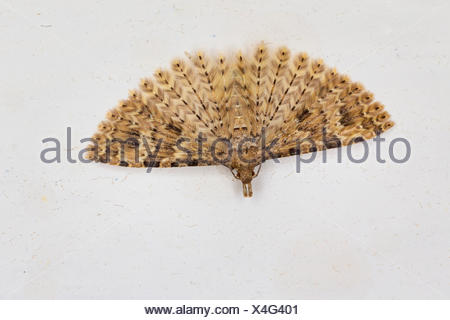Alucitidae: (83, 39, 394, 196)
moth: (85, 40, 396, 197)
